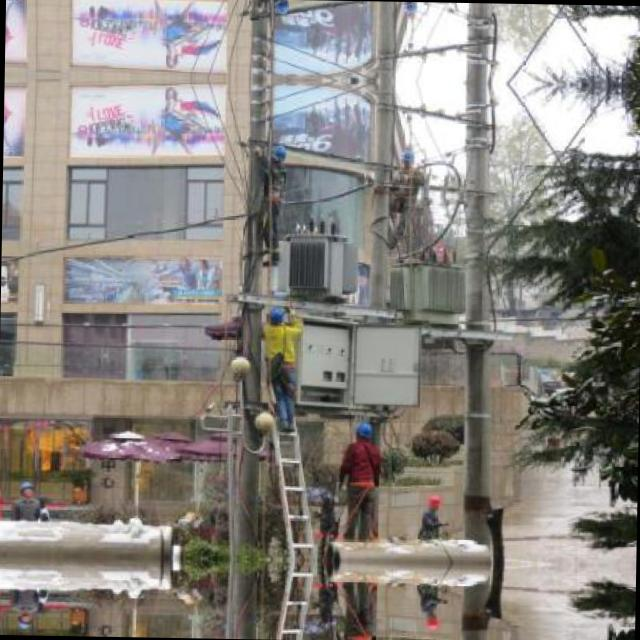helmet: (348, 417, 371, 442), (266, 305, 288, 330), (269, 138, 288, 166), (394, 146, 414, 171), (422, 492, 444, 512), (271, 0, 291, 22), (419, 612, 441, 632), (18, 478, 34, 500), (396, 2, 418, 18), (16, 610, 32, 632)
